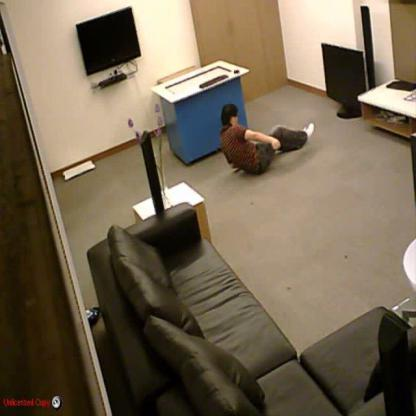Person: (221, 104, 315, 174)
